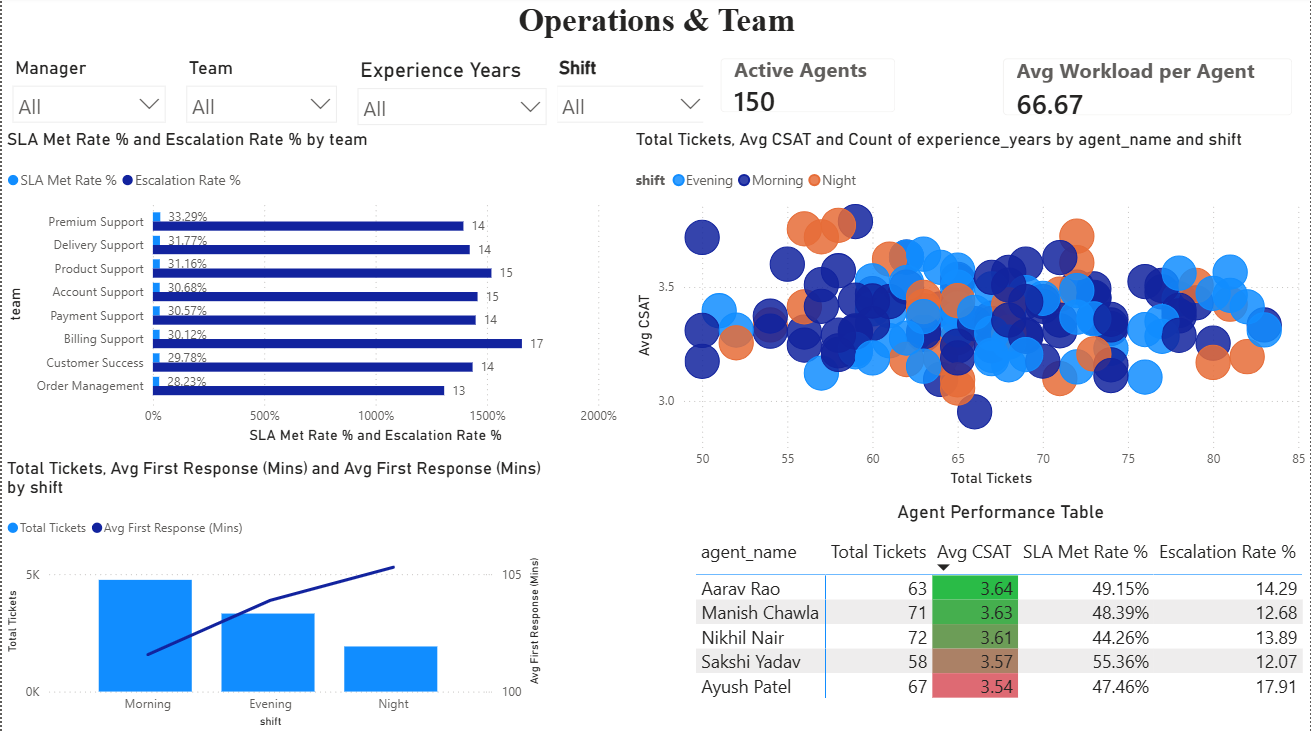

This screenshot's page, from the dashboard's own definition file:
{"tool":"powerbi","page":{"name":"Operations & Team","canvas":[1280,720],"ordinal":1},"visuals":[{"type":"slicer","fields":{"Values":["agent_master_indian.team"]},"box":[170,55,167.5,74.6],"z":0},{"type":"slicer","fields":{"Values":["agent_master_indian.manager"]},"box":[0,55,170,74.6],"z":1000},{"type":"slicer","fields":{"Values":["agent_master_indian.shift"]},"box":[531.9,55,167.5,92.9],"z":2000},{"type":"slicer","fields":{"Values":["agent_master_indian.experience_years"]},"box":[337.5,55,205.4,74.6],"z":3000},{"type":"clusteredBarChart","fields":{"Category":["agent_master_indian.team"],"Y":["_Measures.SLA Met Rate %","_Measures.Escalation Rate %"]},"box":[0,129.6,606.5,313],"z":4000},{"type":"scatterChart","fields":{"Category":["agent_master_indian.agent_name"],"X":["_Measures.Total Tickets"],"Y":["_Measures.Avg CSAT"],"Size":["CountNonNull(agent_master_indian.experience_years)"],"Series":["agent_master_indian.shift"]},"box":[615.1,129.6,665.2,354.6],"z":5000},{"type":"lineStackedColumnComboChart","fields":{"Category":["agent_master_indian.shift"],"Y":["_Measures.Total Tickets"],"Y2":["_Measures.Avg First Response (Mins)"]},"box":[0,451.2,531.9,269],"z":6000},{"type":"textbox","box":[0,0,1280.3,55],"z":7000},{"type":"pivotTable","title":"Agent Performance Table","fields":{"Rows":["agent_master_indian.agent_name"],"Values":["_Measures.Total Tickets","_Measures.Avg CSAT","_Measures.SLA Met Rate %","_Measures.Escalation Rate %"]},"box":[673.8,494,606.5,226.2],"z":8000},{"type":"cardVisual","fields":{"Data":["_Measures.Active Agents"]},"box":[686,44,203,85],"z":9000},{"type":"cardVisual","fields":{"Data":["_Measures.Avg Workload per Agent"]},"box":[962.4,44,317.9,85.6],"z":10000}]}

Visuals, with their boxes in screenshot pixels (x1, y1, x2, y2), scaled from the page's 1280x720 canvas onto the 1311x731 screenshot:
slicer - agent_master_indian.team: l=174, t=56, r=346, b=132
slicer - agent_master_indian.manager: l=0, t=56, r=174, b=132
slicer - agent_master_indian.shift: l=545, t=56, r=716, b=150
slicer - agent_master_indian.experience_years: l=346, t=56, r=556, b=132
clusteredBarChart - agent_master_indian.team x _Measures.SLA Met Rate %: l=0, t=132, r=621, b=449
scatterChart - agent_master_indian.agent_name x _Measures.Total Tickets: l=630, t=132, r=1310, b=492
lineStackedColumnComboChart - agent_master_indian.shift x _Measures.Total Tickets: l=0, t=458, r=545, b=730
textbox: l=0, t=0, r=1310, b=56
"Agent Performance Table" pivotTable: l=690, t=502, r=1310, b=730
cardVisual - _Measures.Active Agents: l=703, t=45, r=911, b=131
cardVisual - _Measures.Avg Workload per Agent: l=986, t=45, r=1310, b=132
